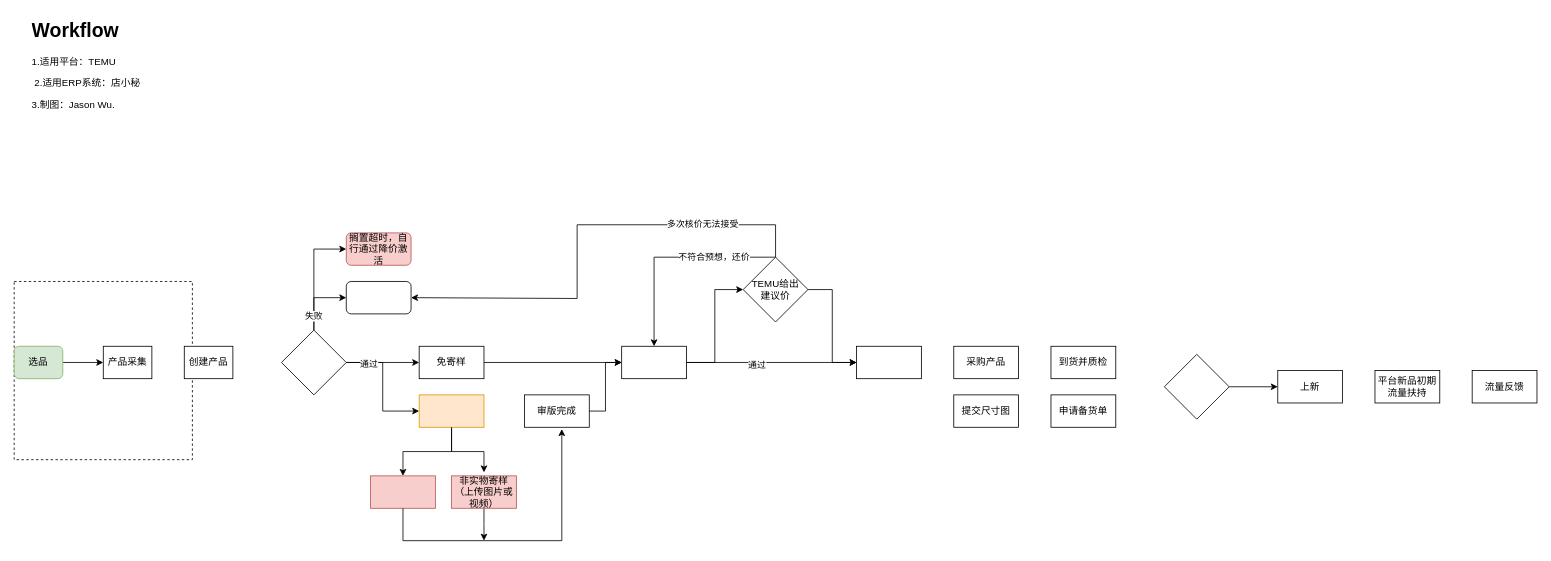
Image size: 1551x561. Some labels were removed from this diagram. Each missing label, with the centre of its shape:
"TEMU买手 产品初审" belongs at pixel 313 362.
"TEMU仓库 质检" belongs at pixel 1196 386.
"产品结束" belongs at pixel 378 297.
"实物寄样至TEMU仓库（建议放弃产品）" belongs at pixel 402 491.
"寄样" belongs at pixel 451 410.
"待下首单" belongs at pixel 888 362.
"核价" belongs at pixel 653 362.
